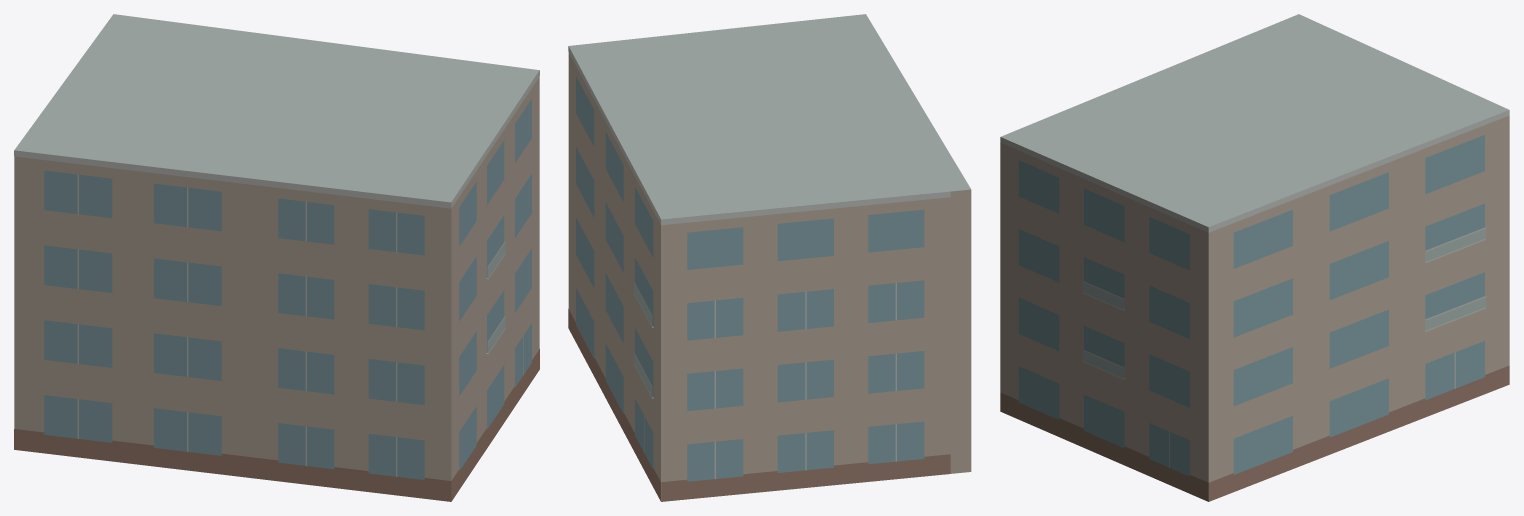
File: survey-upis-32838538.glb
3 renders of one model, left to right at view 1: azimuth 30°, elevation 25°; view 2: azimuth 150°, elevation 25°; view 3: azimuth 270°, elevation 25°, orthographic. The views are drawn at different scales.
Visible parts, largest first — view 1: survey-upis-32838538.tmp; view 2: survey-upis-32838538.tmp; view 3: survey-upis-32838538.tmp.
Boxes of the visible parts, left/top/right/bottom form: survey-upis-32838538.tmp: left=14, top=14, right=539, bottom=501; survey-upis-32838538.tmp: left=568, top=14, right=971, bottom=501; survey-upis-32838538.tmp: left=1000, top=14, right=1509, bottom=501.
Bounding box in the file's own units: 19.98 × 12 × 20.17.
